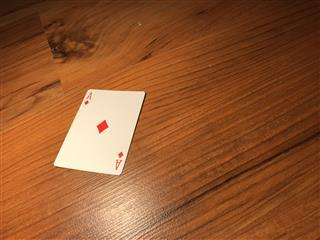AceOfDiamonds: (53, 88, 145, 174)
